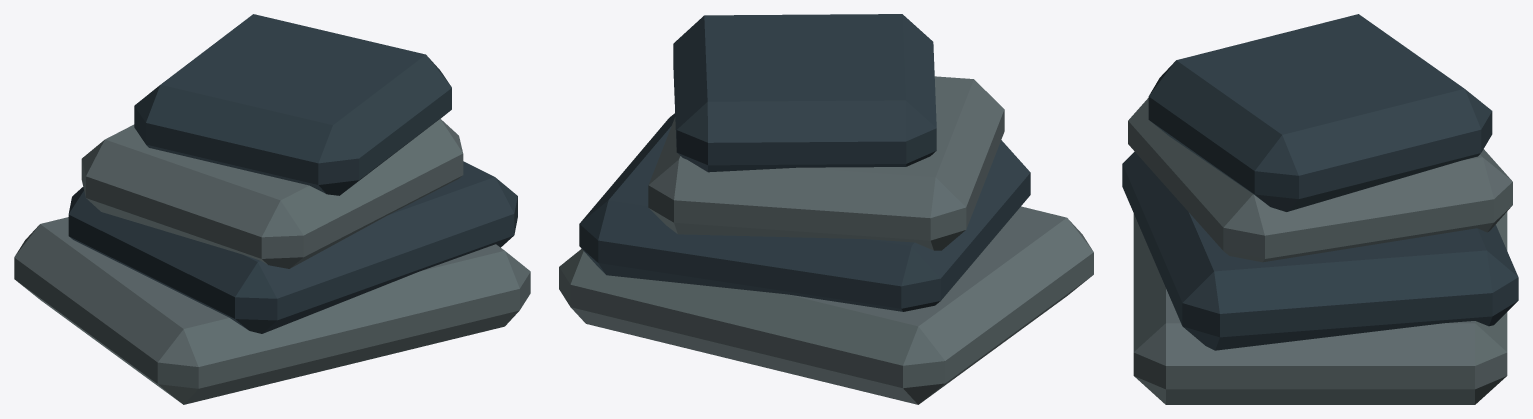
The model's file is Rock1.fbx.
The picture shows the model from 3 angles, left to right: view 1: azimuth 30°, elevation 25°; view 2: azimuth 150°, elevation 25°; view 3: azimuth 270°, elevation 25°; orthographic projection. The views are drawn at different scales.
Parts seen in each view (by area): view 1: Rock1_Mesh; view 2: Rock1_Mesh; view 3: Rock1_Mesh.
Part boxes in pixels (<box>): Rock1_Mesh: <box>14,14,530,404</box>; Rock1_Mesh: <box>559,14,1093,404</box>; Rock1_Mesh: <box>1122,14,1518,404</box>.
Size of the model in its own units: 0.7435 by 0.44 by 0.6145.
